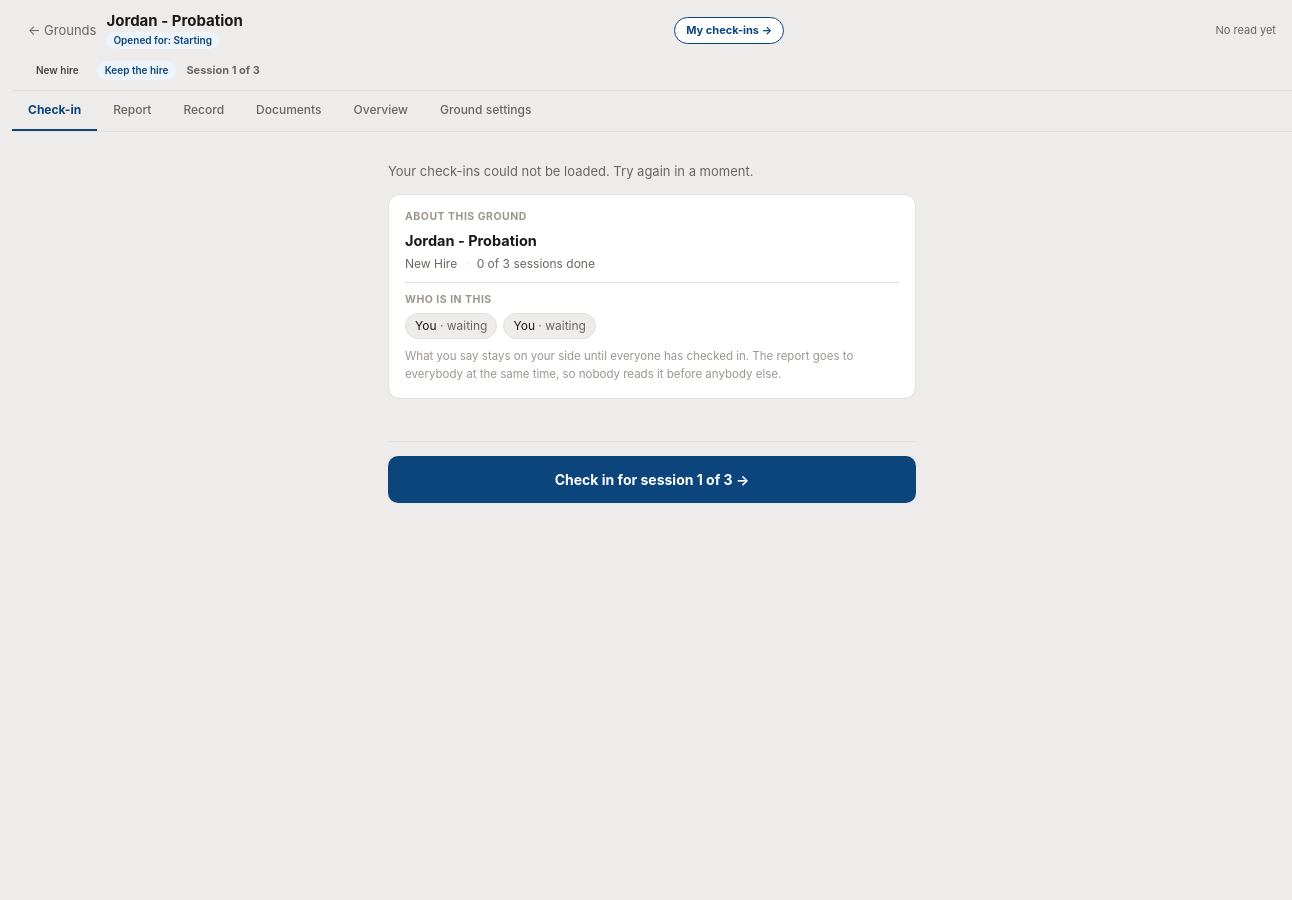
Scenario: BUG7: admin check-ins list labels each row by participant › shows each participant against their session-1 check-in
Expected: the text "Jordan - Probation" next to "← Grounds" is shown, [106,11,243,30]
Click the button "Record": (204, 111) [167,91,240,131]
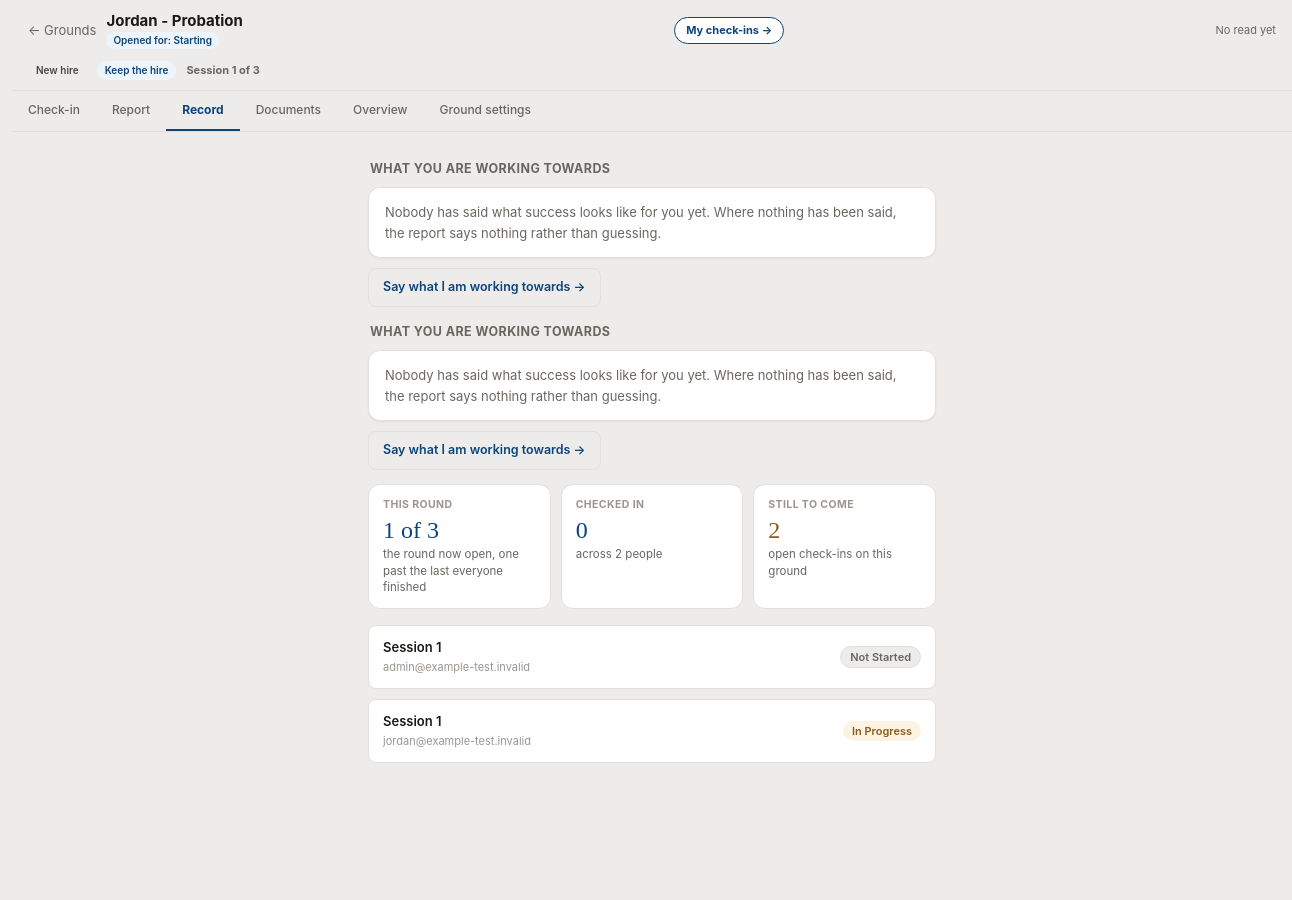
Expected: the text "admin@example-test.invalid" is shown, [383,660,530,676]
Expected: the text "jordan@example-test.invalid" is shown, [383,734,531,750]
Expected: the text "Session 1" is shown 2 times, [383,639,442,655]; [383,713,442,729]
